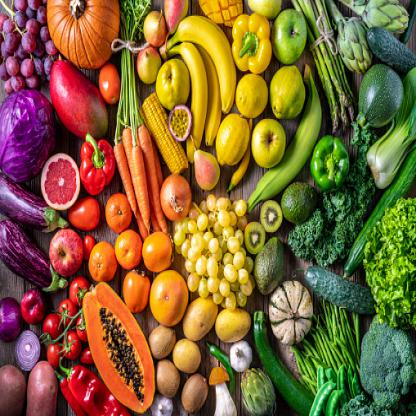apple: (273, 6, 307, 64), (252, 116, 285, 170), (50, 228, 83, 276), (21, 287, 44, 327)
avocado: (255, 238, 286, 295), (282, 179, 320, 222)
bell pepper: (232, 13, 272, 75), (310, 132, 349, 188), (80, 134, 116, 194)
broccoli: (360, 315, 415, 408)
chilli: (60, 362, 130, 415), (208, 342, 236, 395)
corn: (140, 92, 189, 171)
cucumber: (344, 136, 415, 282), (252, 308, 318, 415), (304, 270, 376, 313), (367, 26, 415, 67)
eggplant: (0, 219, 68, 294), (0, 173, 68, 233)
garlic: (229, 339, 252, 373)
lemon: (270, 64, 305, 120), (217, 112, 249, 167), (236, 72, 269, 116)
mushroom: (211, 363, 236, 415)
onion: (160, 173, 190, 222), (0, 296, 24, 342), (16, 329, 40, 372)
potato: (184, 296, 218, 335), (216, 310, 251, 342), (174, 339, 200, 372)
tomato: (67, 196, 99, 231), (99, 65, 122, 104), (69, 278, 89, 306), (61, 329, 80, 357), (43, 313, 63, 339), (57, 301, 78, 324), (47, 342, 63, 364), (77, 314, 90, 340)
